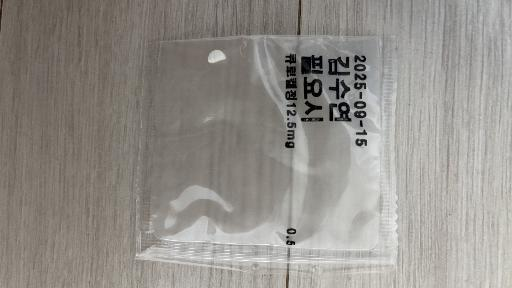Q-Rokel: (136, 35, 397, 273), (208, 50, 226, 63)
